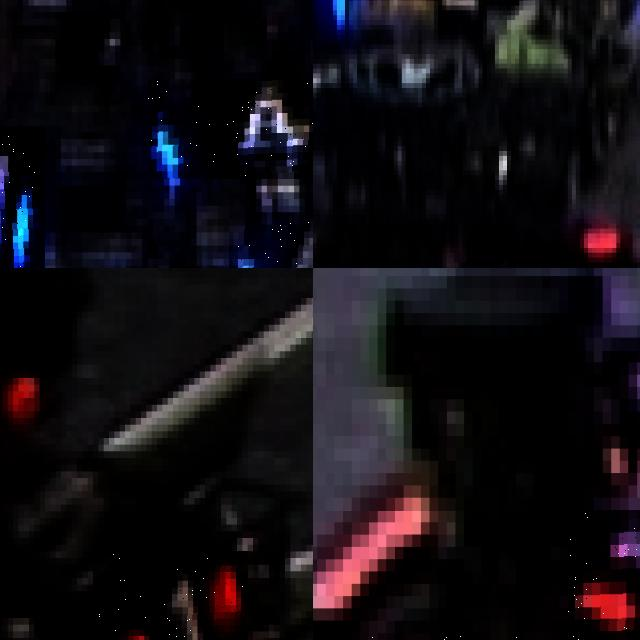B4: (147, 79, 313, 179), (0, 125, 44, 268)
R1: (93, 551, 247, 640)
R3: (568, 509, 640, 640)
